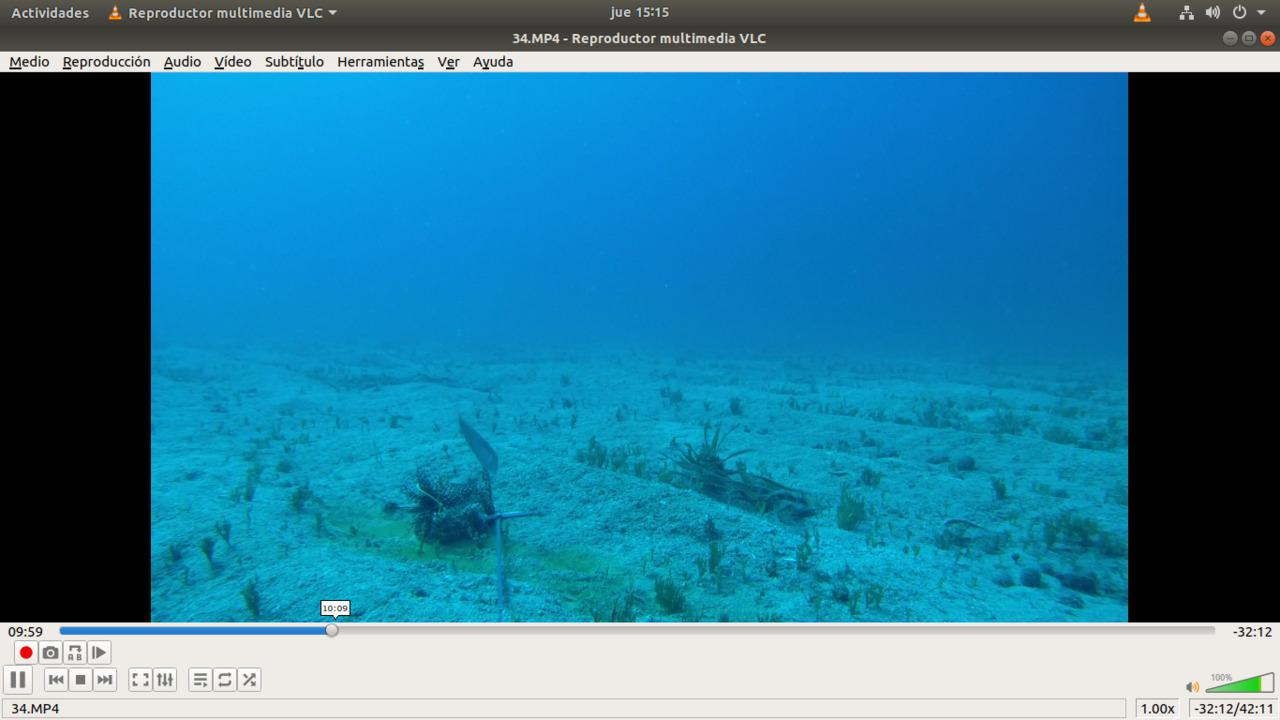raor: (445, 406, 507, 472)
